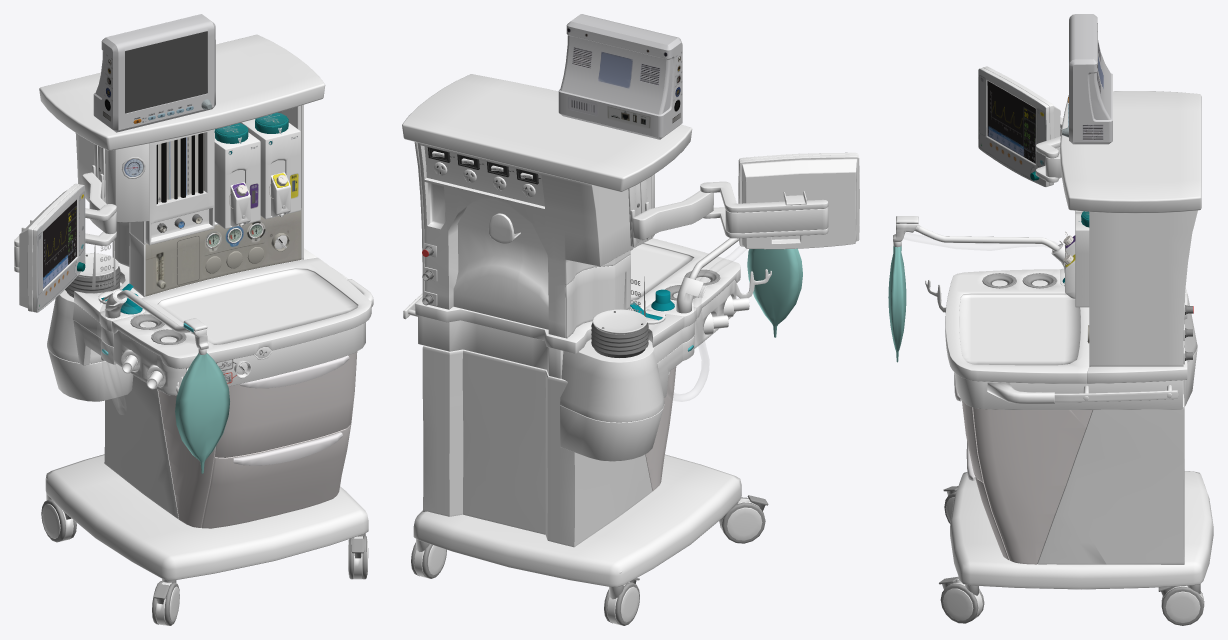
Rendered from MedicalEquipment.fbx.
3 renders of one model, left to right at view 1: azimuth 30°, elevation 25°; view 2: azimuth 150°, elevation 25°; view 3: azimuth 270°, elevation 25°, orthographic. The views are drawn at different scales.
Parts seen in each view (by area): view 1: Drawer_3, Board_1, ABS_2, Base_leg, Upper_part, cardic_monitor, Monitor_2, Breathing_system, Vaporizer, Bag, Vaporizer_2, Arm_Monitor_1 (+8 smaller); view 2: ABS_2, Drawer_3, Upper_part, Base_leg, Board_1, cardic_monitor, Breathing_system, Monitor_2, Arm_Monitor_1, Bag, Bellows_assembly, Wheel_1_12 (+4 smaller); view 3: Drawer_3, Board_1, ABS_2, Upper_part, Base_leg, Monitor_2, cardic_monitor, Vaporizer_2, Bag_Arm, Wheel_28, Wheel_1_3_2, Bag (+3 smaller).
Boxes of the visible parts, x1,y1,x2,y2 form: Drawer_3: (104,351,357,528); Board_1: (98,248,373,395); ABS_2: (74,104,303,322); Base_leg: (45,454,368,580); Upper_part: (39,34,325,150); cardic_monitor: (93,14,215,132); Monitor_2: (19,183,85,312); Breathing_system: (47,282,133,401); Vaporizer: (214,123,260,228); Bag: (175,353,229,473); Vaporizer_2: (240,112,300,219); Arm_Monitor_1: (14,144,116,272); ABS_2: (414,142,684,347); Drawer_3: (422,345,676,547); Upper_part: (402,74,692,191); Base_leg: (413,454,741,587); Board_1: (403,238,771,378); cardic_monitor: (558,14,682,139); Breathing_system: (560,322,694,461); Monitor_2: (738,152,859,249); Arm_Monitor_1: (628,179,828,246); Bag: (747,248,802,337); Bellows_assembly: (591,309,648,357); Wheel_1_12: (719,495,768,543); Drawer_3: (954,341,1184,564); Board_1: (925,268,1187,409); ABS_2: (1087,210,1197,366); Upper_part: (1060,91,1201,213); Base_leg: (950,471,1213,589); Monitor_2: (978,66,1060,186); cardic_monitor: (1062,14,1112,144); Vaporizer_2: (1065,211,1089,307); Bag_Arm: (893,216,1064,272); Wheel_28: (939,576,984,623); Wheel_1_3_2: (1158,584,1204,625); Bag: (888,246,906,362).
Bounding box in the file's own units: 104 × 147 × 83.22.
